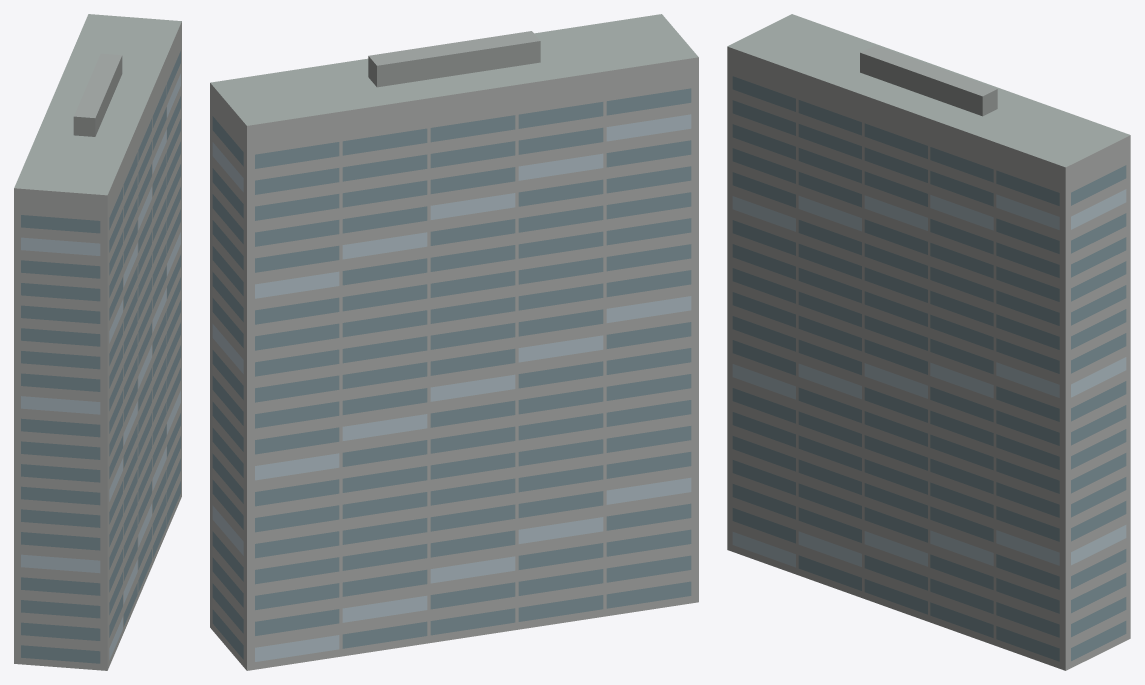
Rendered from fallback-dmc-raemian-e-pyeonhansesang-109.glb.
3 views of the same model, side by side, from view 1: azimuth 30°, elevation 25°; view 2: azimuth 150°, elevation 25°; view 3: azimuth 270°, elevation 25° (orthographic). The views are drawn at different scales.
Visible parts, largest first — view 1: fallback-dmc-raemian-e-pyeonhansesang-109; view 2: fallback-dmc-raemian-e-pyeonhansesang-109; view 3: fallback-dmc-raemian-e-pyeonhansesang-109.
Boxes of the visible parts, left/top/right/bottom form: fallback-dmc-raemian-e-pyeonhansesang-109: left=14, top=14, right=181, bottom=670; fallback-dmc-raemian-e-pyeonhansesang-109: left=210, top=14, right=698, bottom=670; fallback-dmc-raemian-e-pyeonhansesang-109: left=727, top=14, right=1130, bottom=670.
Size of the model in its own units: 39.62 by 63 by 44.03.
